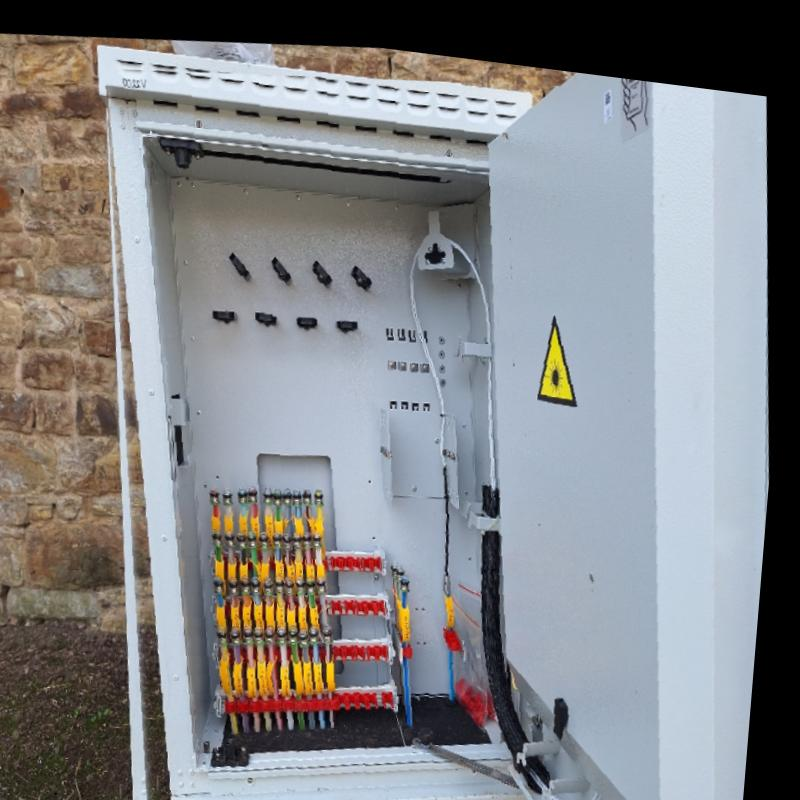NT-Gehause: (57, 11, 800, 800)
